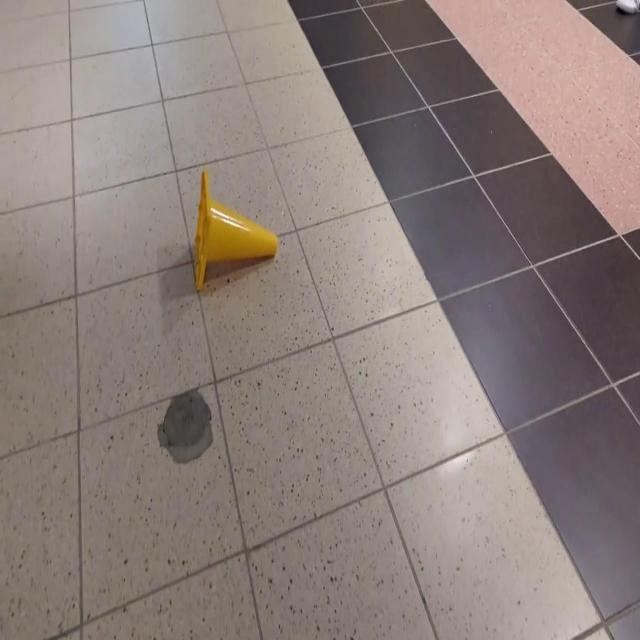frc_cone: (193, 168, 279, 293)
